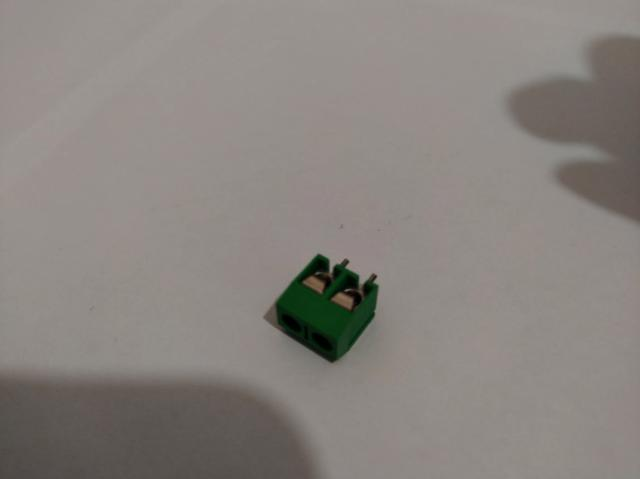terminal_block: (277, 254, 379, 360)
